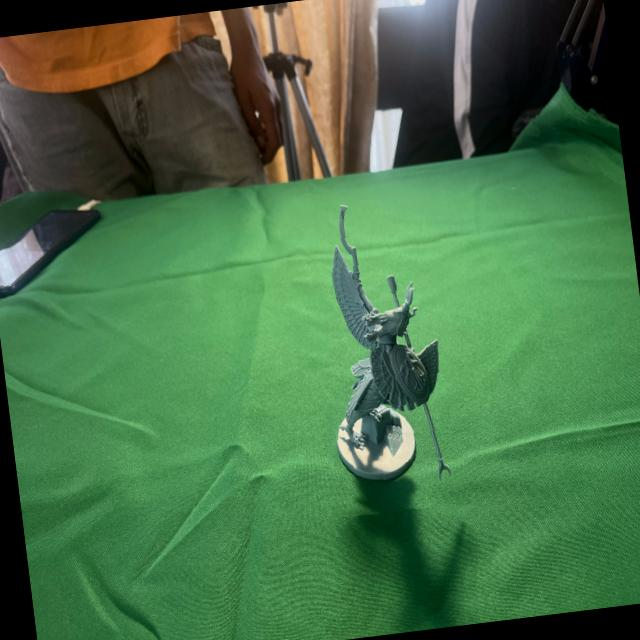isis: (296, 178, 472, 519)
